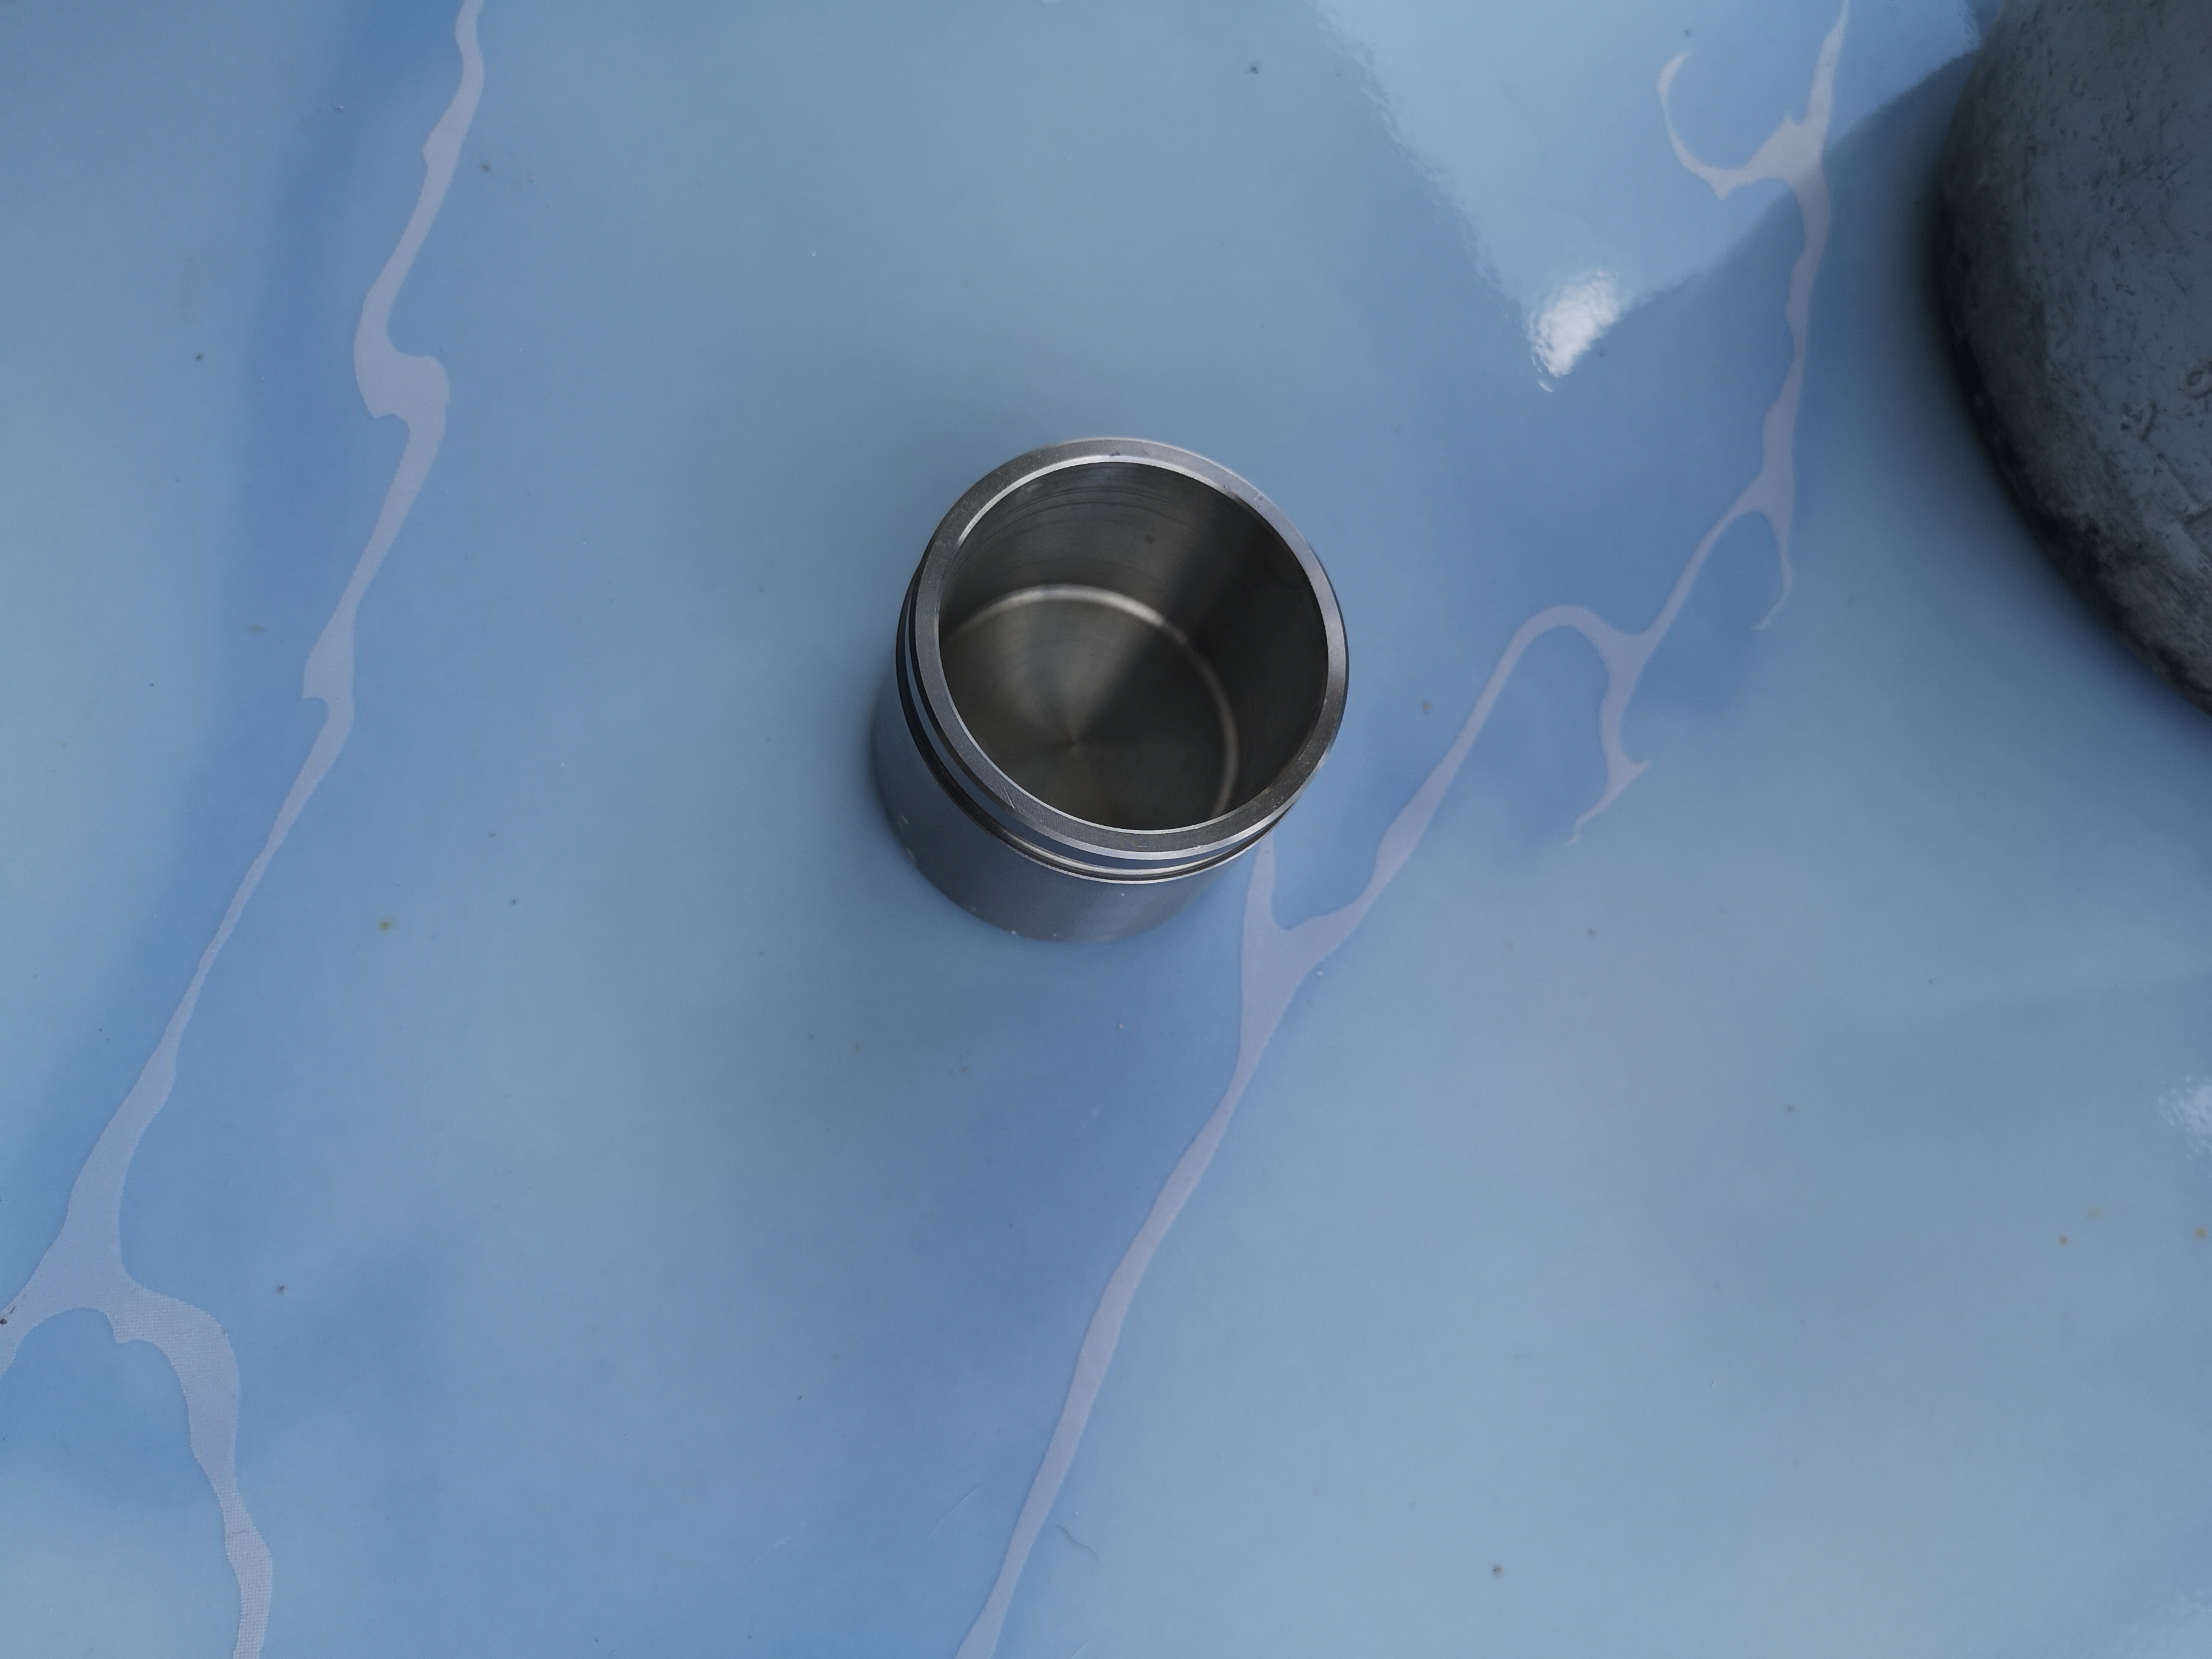ลูกสูบดิสเบรค: (859, 423, 1376, 941)
